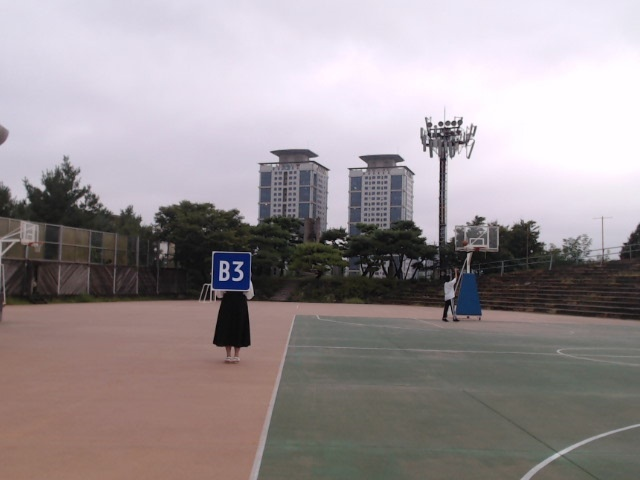delivery_b3: (211, 252, 252, 291)
